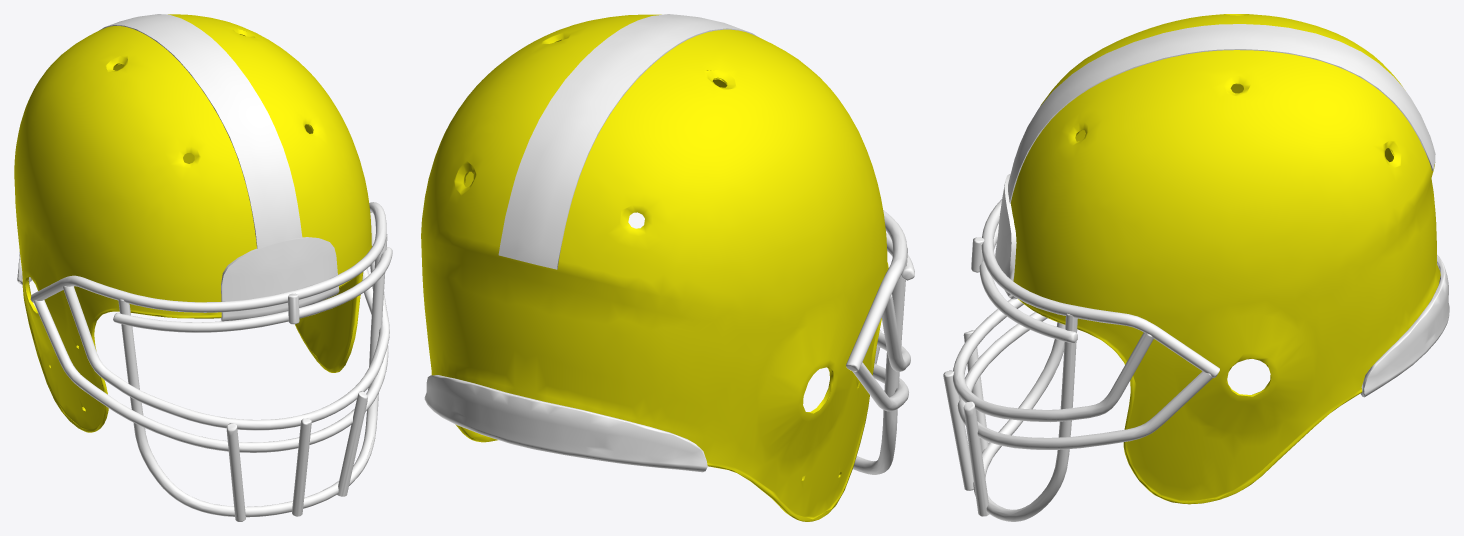
File: Helmet_Rugby.fbx
The picture shows the model from 3 angles, left to right: view 1: azimuth 30°, elevation 25°; view 2: azimuth 150°, elevation 25°; view 3: azimuth 270°, elevation 25°; orthographic projection. The views are drawn at different scales.
Parts seen in each view (by area): view 1: Helmet_Rugby; view 2: Helmet_Rugby; view 3: Helmet_Rugby.
Part boxes in pixels (bbox=[...]): Helmet_Rugby: bbox=[14, 14, 392, 521]; Helmet_Rugby: bbox=[421, 14, 914, 521]; Helmet_Rugby: bbox=[943, 14, 1449, 521].
Size of the model in its own units: 432 by 511 by 516.
